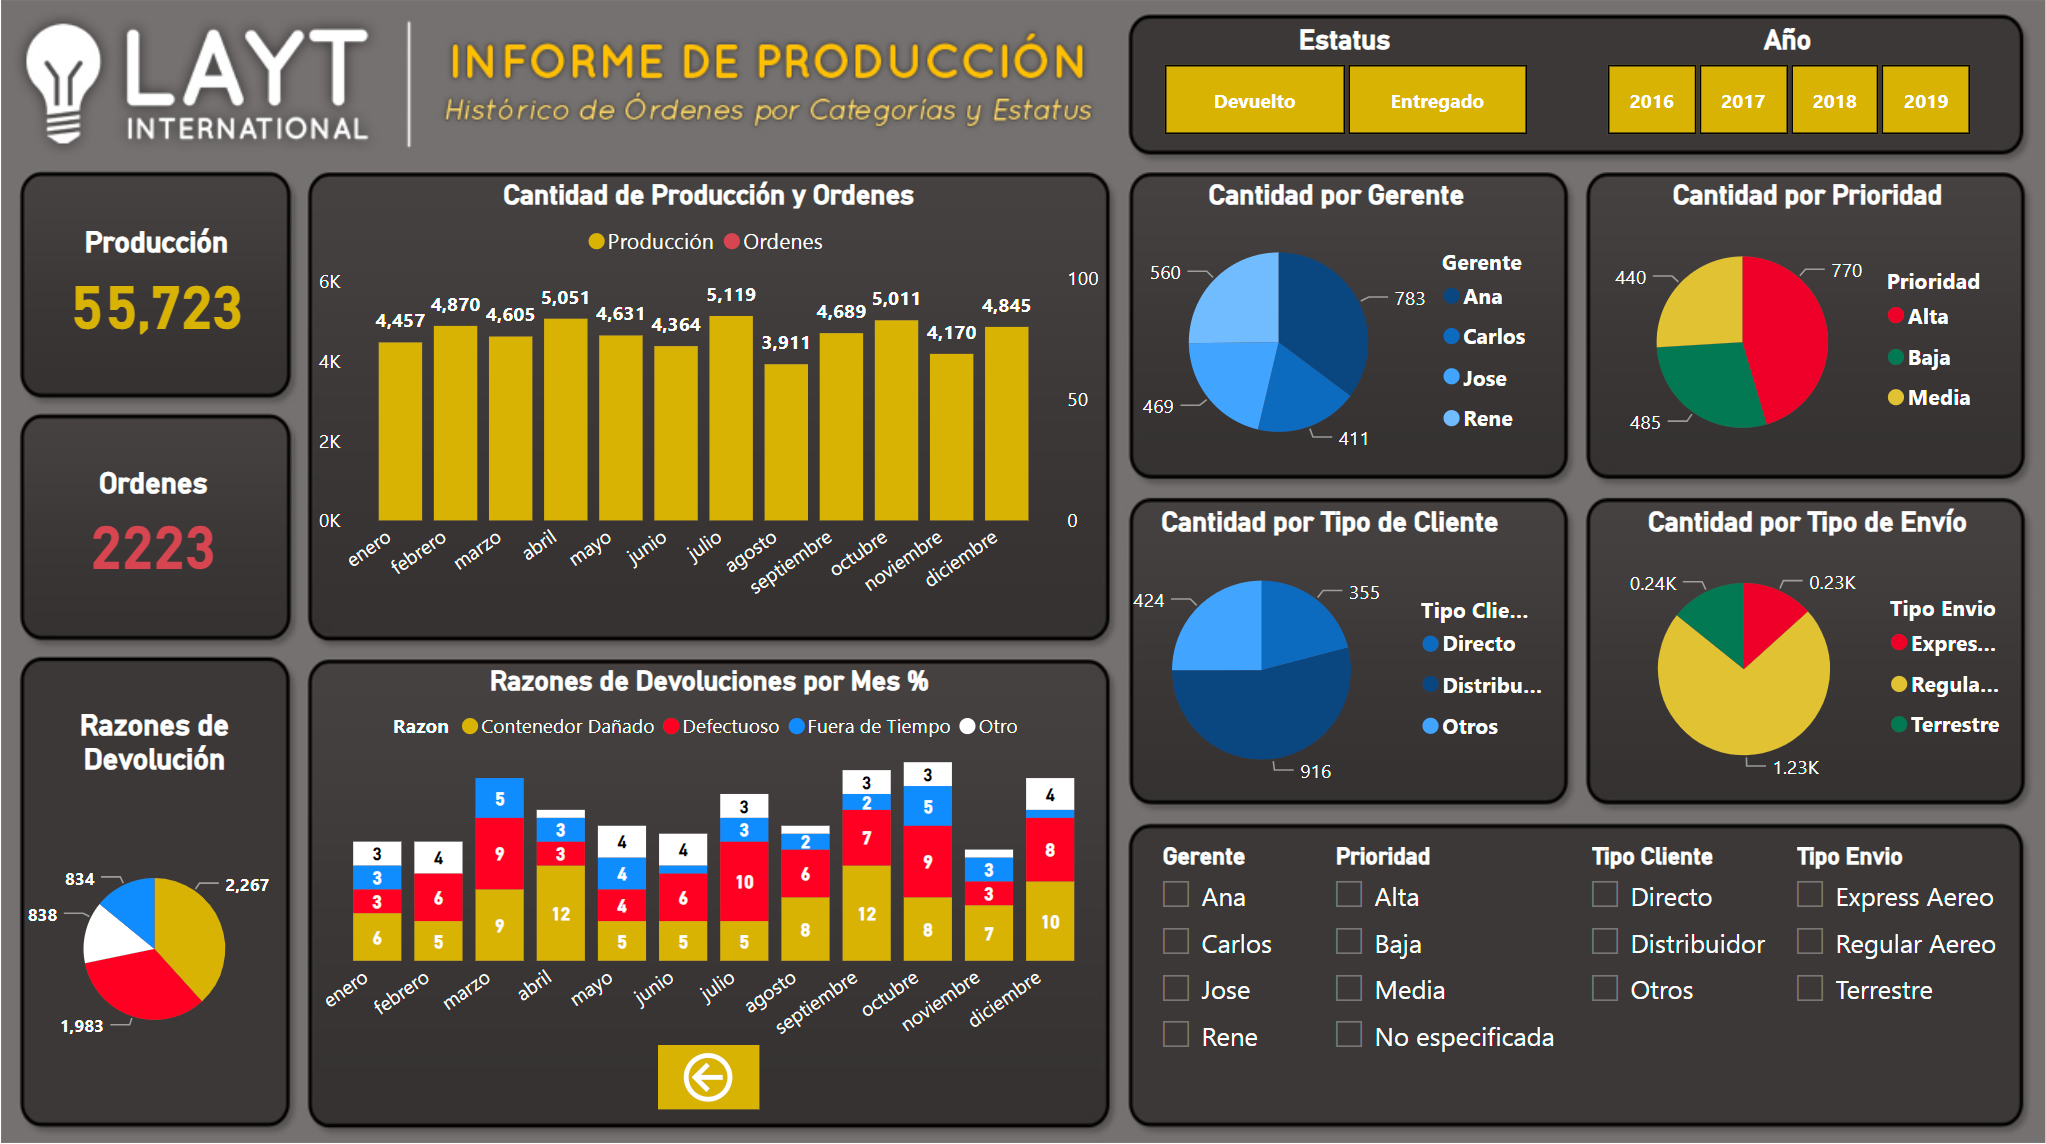

This screenshot's page, from the dashboard's own definition file:
{"tool":"powerbi","page":{"name":"Razones De Devolución","canvas":[1280,720],"ordinal":3},"visuals":[{"type":"image","title":"ImagenFondo","box":[0,0,1279.8,720],"z":0},{"type":"card","title":"Producción","fields":{"Values":["Sum(TablaTransacciones.Cantidad)"]},"box":[22.9,144.7,157.1,75.5],"z":1000},{"type":"card","title":"Ordenes","fields":{"Values":["CountNonNull(TablaTransacciones.Cantidad)"]},"box":[22.9,294.4,153.4,74.2],"z":2000},{"type":"lineClusteredColumnComboChart","title":"Cantidad de Producción y Ordenes","fields":{"Category":["TablaTransacciones.Fecha.Variación.Jerarquía de fechas.Mes"],"Y2":["CountNonNull(TablaTransacciones.Cantidad)"],"Y":["Sum(TablaTransacciones.Cantidad)"]},"box":[196.7,115.7,495.5,282.1],"z":3000},{"type":"slicer","title":"Año","fields":{"Values":["TablaTransacciones.Fecha.Variación.Jerarquía de fechas.Año"]},"box":[977.3,19.2,275.3,76.1],"z":4000},{"type":"columnChart","title":"Razones de Devoluciones por Mes %","fields":{"Category":["TablaTransacciones.Fecha.Variación.Jerarquía de fechas.Mes"],"Y":["CountNonNull(TablaEstatus.Estatus)"],"Series":["TablaEstatus.Razon"]},"box":[197.3,417.5,494.8,252.4],"z":5000},{"type":"slicer","title":"Estatus","fields":{"Values":["TablaEstatus.Estatus"]},"box":[702.1,19.2,275.3,76.1],"z":6000},{"type":"pieChart","title":"Cantidad por Gerente","fields":{"Y":["CountNonNull(TablaTransacciones.Gerente)"],"Series":["TablaTransacciones.Gerente"]},"box":[692.2,115.7,285.2,184.9],"z":7000},{"type":"pieChart","title":"Cantidad por Prioridad","fields":{"Y":["CountNonNull(TablaTransacciones.Gerente)"],"Series":["TablaTransacciones.Prioridad"]},"box":[992.2,115.7,270.3,184.9],"z":8000},{"type":"pieChart","title":"Cantidad por Tipo de Cliente","fields":{"Y":["CountNonNull(TablaTransacciones.Gerente)"],"Series":["TablaTransacciones.Tipo Cliente"]},"box":[684.1,318.6,293.2,186.2],"z":9000},{"type":"pieChart","title":"Cantidad por Tipo de Envío","fields":{"Y":["CountNonNull(TablaTransacciones.Gerente)"],"Series":["TablaTransacciones.Tipo Envio"]},"box":[992.2,318.6,270.3,184.9],"z":10000},{"type":"slicer","fields":{"Values":["TablaTransacciones.Gerente"]},"box":[713.8,523.9,105.8,170.7],"z":11000},{"type":"slicer","fields":{"Values":["TablaTransacciones.Prioridad"]},"box":[821,523.9,157.7,170.7],"z":12000},{"type":"slicer","fields":{"Values":["TablaTransacciones.Tipo Cliente"]},"box":[980.2,523.9,126.2,170.7],"z":13000},{"type":"slicer","fields":{"Values":["TablaTransacciones.Tipo Envio"]},"box":[1107.8,523.9,144.7,170.7],"z":14000},{"type":"pieChart","title":"Razones de Devolución","fields":{"Y":["Sum(TablaTransacciones.Cantidad)"],"Category":["TablaEstatus.Razon"]},"box":[17.3,444.7,165.8,257.3],"z":15000},{"type":"actionButton","box":[413.2,654.4,63.1,40.2],"z":15001}]}

Visuals, with their boxes in screenshot pixels (x1, y1, x2, y2), scaled from the page's 1280x720 canvas onto the 2046x1144 screenshot:
"ImagenFondo" image: 0, 0, 2045, 1143
"Producción" card: 37, 230, 288, 350
"Ordenes" card: 37, 468, 282, 586
"Cantidad de Producción y Ordenes" lineClusteredColumnComboChart: 314, 184, 1106, 632
"Año" slicer: 1562, 31, 2002, 151
"Razones de Devoluciones por Mes %" columnChart: 315, 663, 1106, 1064
"Estatus" slicer: 1122, 31, 1562, 151
"Cantidad por Gerente" pieChart: 1106, 184, 1562, 478
"Cantidad por Prioridad" pieChart: 1586, 184, 2018, 478
"Cantidad por Tipo de Cliente" pieChart: 1093, 506, 1562, 802
"Cantidad por Tipo de Envío" pieChart: 1586, 506, 2018, 800
slicer - TablaTransacciones.Gerente: 1141, 832, 1310, 1104
slicer - TablaTransacciones.Prioridad: 1312, 832, 1564, 1104
slicer - TablaTransacciones.Tipo Cliente: 1567, 832, 1769, 1104
slicer - TablaTransacciones.Tipo Envio: 1771, 832, 2002, 1104
"Razones de Devolución" pieChart: 28, 707, 293, 1115
actionButton: 660, 1040, 761, 1104
